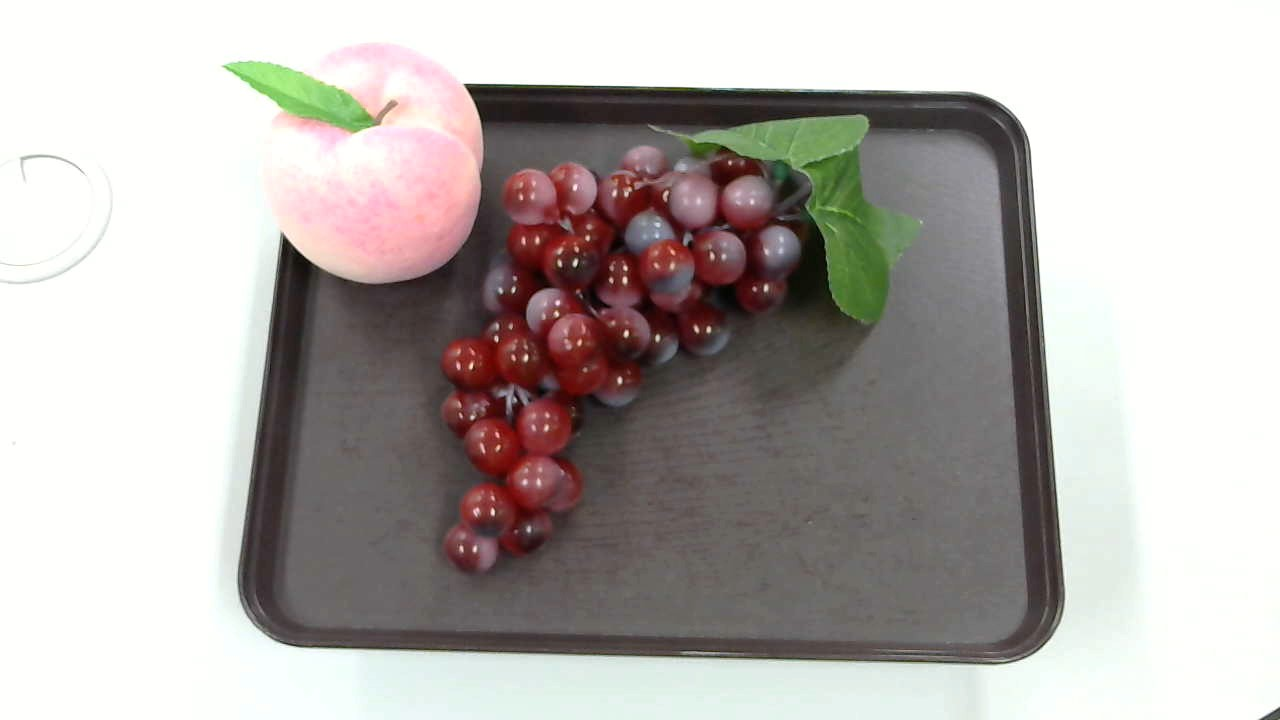grape: (435, 112, 927, 581)
peach: (227, 41, 481, 296)
